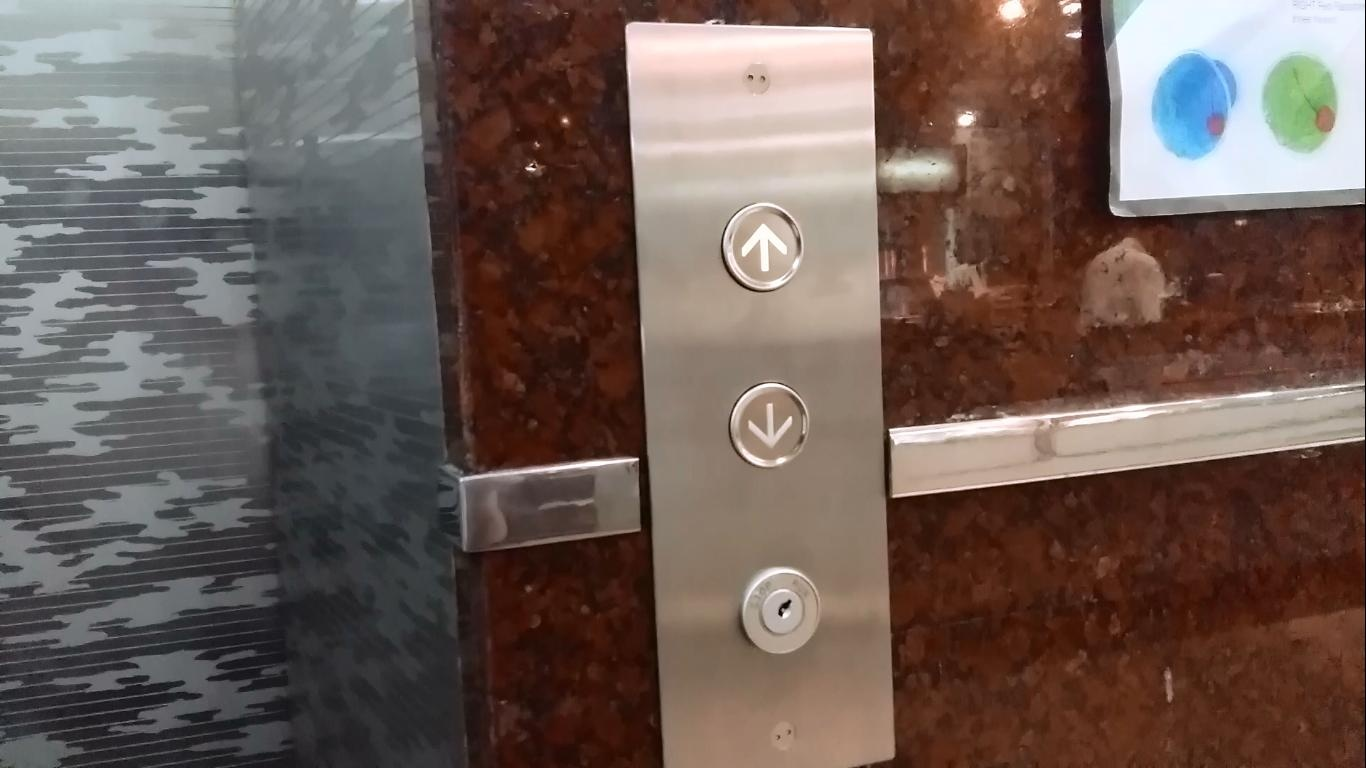down: (728, 377, 811, 468)
keyhole: (735, 564, 822, 656)
up: (718, 196, 809, 298)
